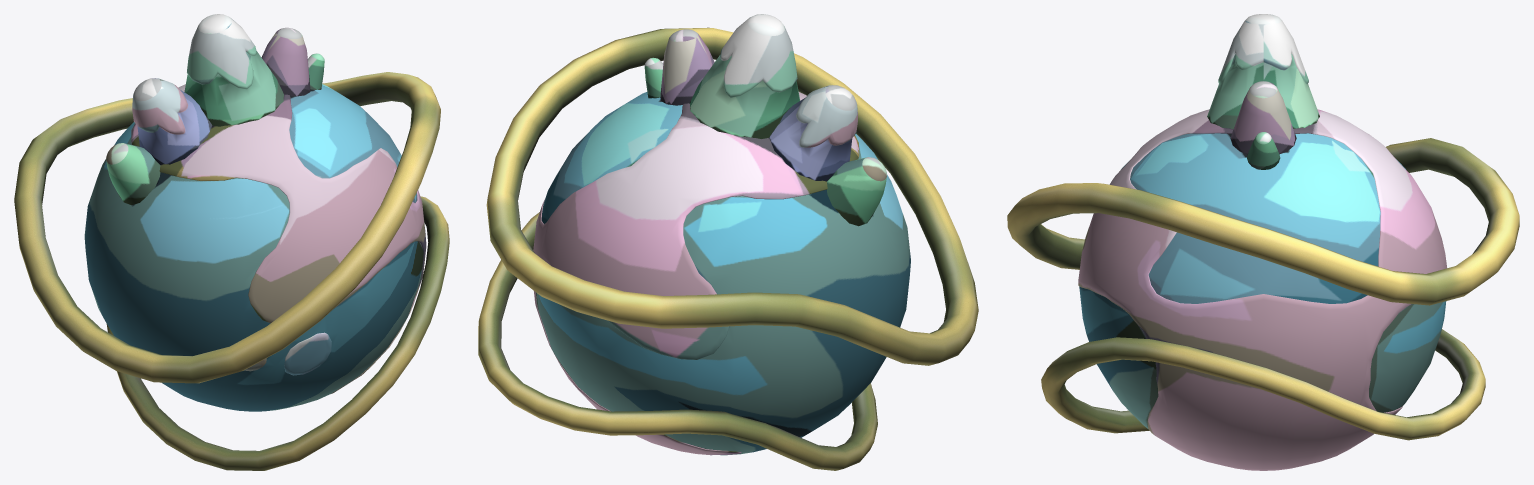
The model's file is ToonPlanet2_v2.glb.
The picture shows the model from 3 angles, left to right: view 1: azimuth 30°, elevation 25°; view 2: azimuth 150°, elevation 25°; view 3: azimuth 270°, elevation 25°; orthographic projection. The views are drawn at different scales.
Visible parts, largest first — view 1: Planet03, Planet Cloud 2, Planet Cloud 1; view 2: Planet03, Planet Cloud 2, Planet Cloud 1; view 3: Planet03, Planet Cloud 2, Planet Cloud 1.
Part boxes in pixels (<box>): Planet03: <box>84,14,426,411</box>; Planet Cloud 2: <box>14,72,440,383</box>; Planet Cloud 1: <box>106,196,449,470</box>; Planet03: <box>533,14,910,455</box>; Planet Cloud 2: <box>486,27,978,365</box>; Planet Cloud 1: <box>478,212,877,470</box>; Planet03: <box>1078,14,1446,470</box>; Planet Cloud 2: <box>1007,138,1519,305</box>; Planet Cloud 1: <box>1041,329,1485,440</box>.
Bounding box in the file's own units: 13.08 × 13.4 × 14.26.
2 materials, 2 textured.
